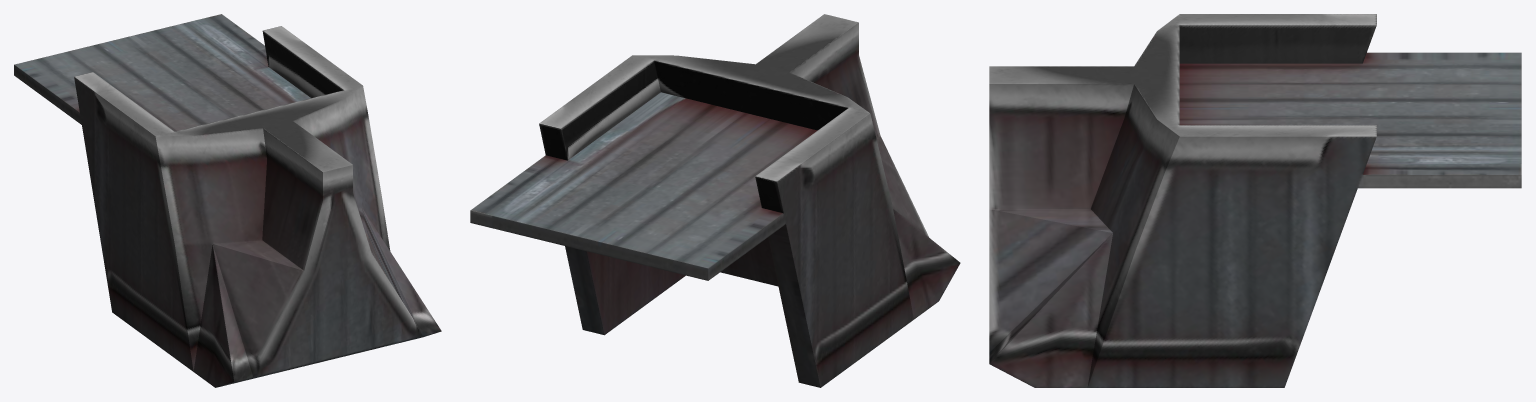
Rendered from RoofWindowBayModuleSteampunk.glb.
3 renders of one model, left to right at view 1: azimuth 30°, elevation 25°; view 2: azimuth 150°, elevation 25°; view 3: azimuth 270°, elevation 25°, orthographic. The views are drawn at different scales.
Visible parts, largest first — view 1: Roof Bay Window Module; view 2: Roof Bay Window Module; view 3: Roof Bay Window Module.
Boxes of the visible parts, x1=… form: Roof Bay Window Module: x1=14, y1=14, x2=441, y2=387; Roof Bay Window Module: x1=470, y1=14, x2=960, y2=387; Roof Bay Window Module: x1=989, y1=14, x2=1521, y2=387.
Size of what is drawn, in the model's own units: 2.25 by 2.15 by 4.13.
1 material, 1 textured.
